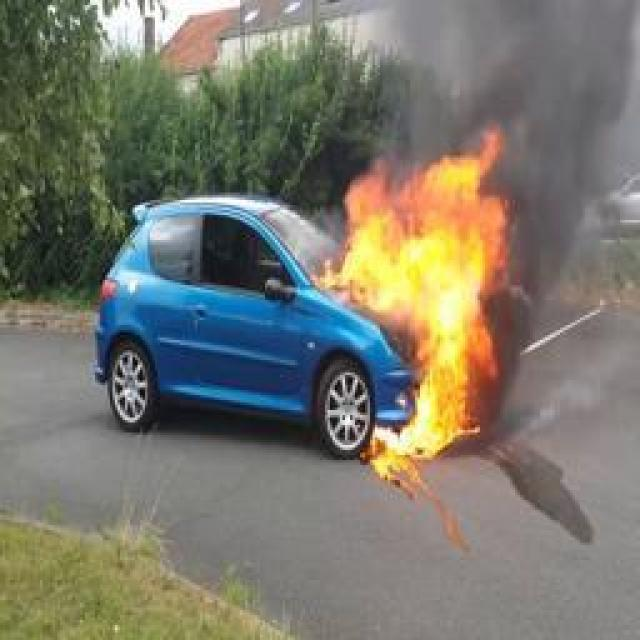Fire: (320, 124, 510, 464)
